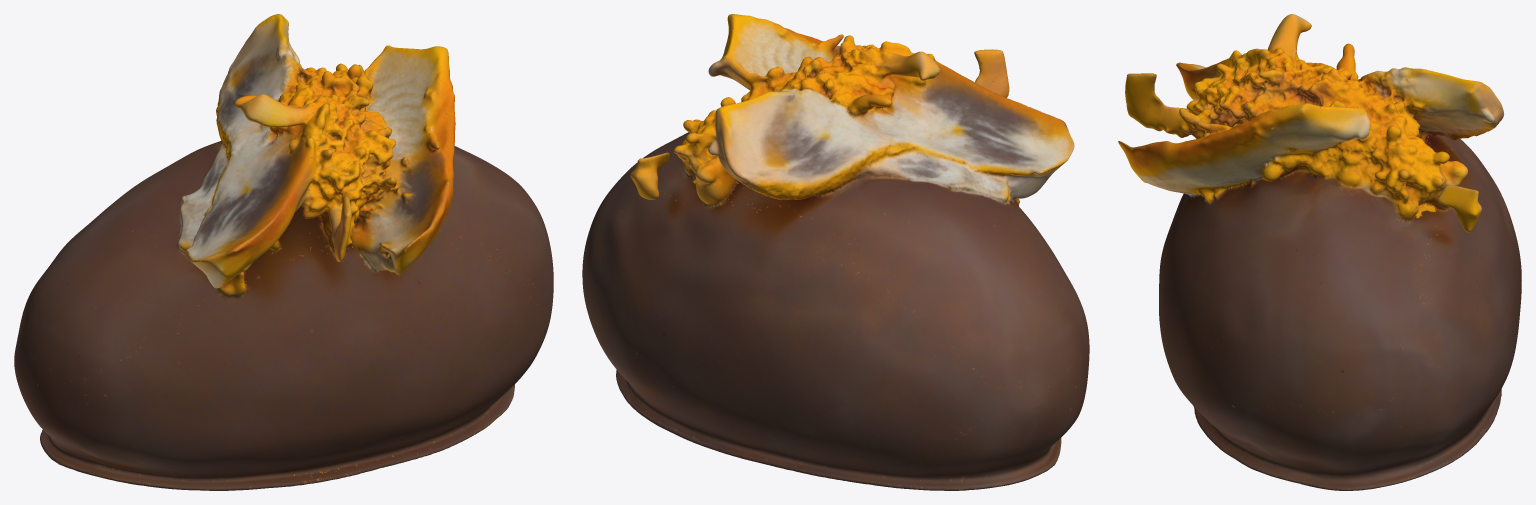
Rendered from eclat-orange.glb.
3 views of the same model, side by side, from view 1: azimuth 30°, elevation 25°; view 2: azimuth 150°, elevation 25°; view 3: azimuth 270°, elevation 25° (orthographic).
Size of the model in its own units: 2 by 1.38 by 1.44.
Materials: 1 (1 with a texture image).
